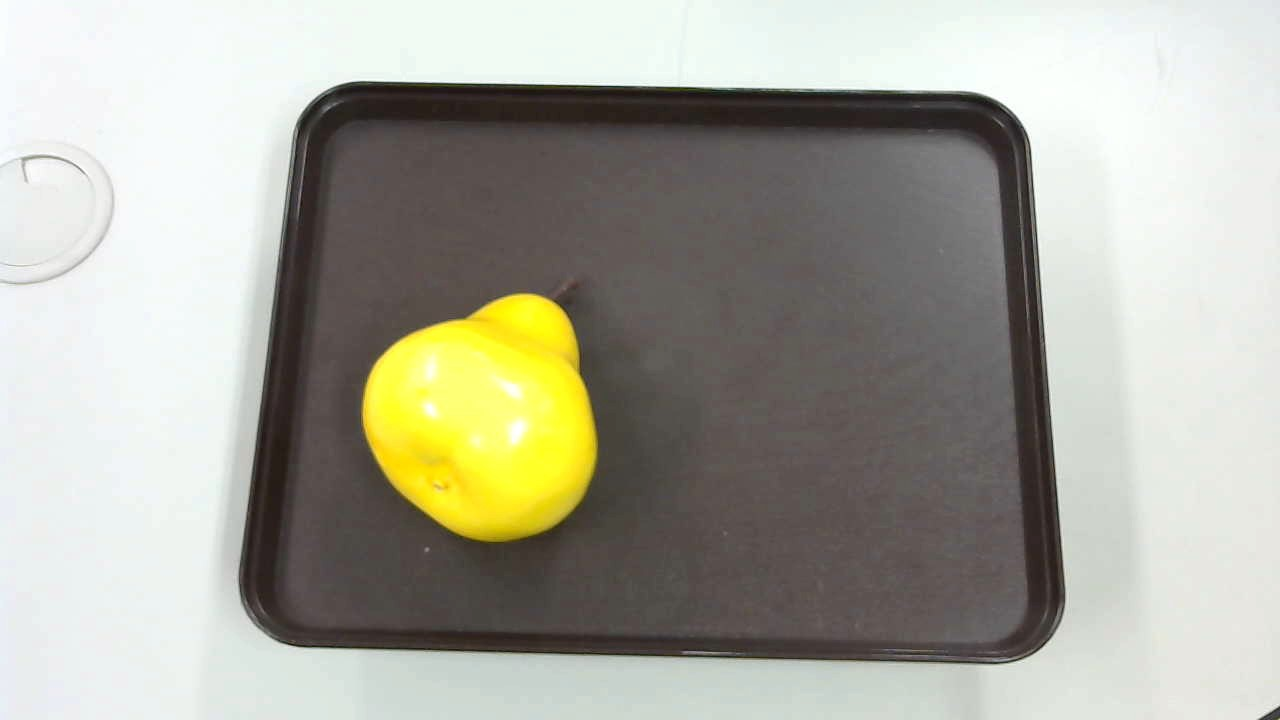yellow pear: (340, 266, 608, 546)
